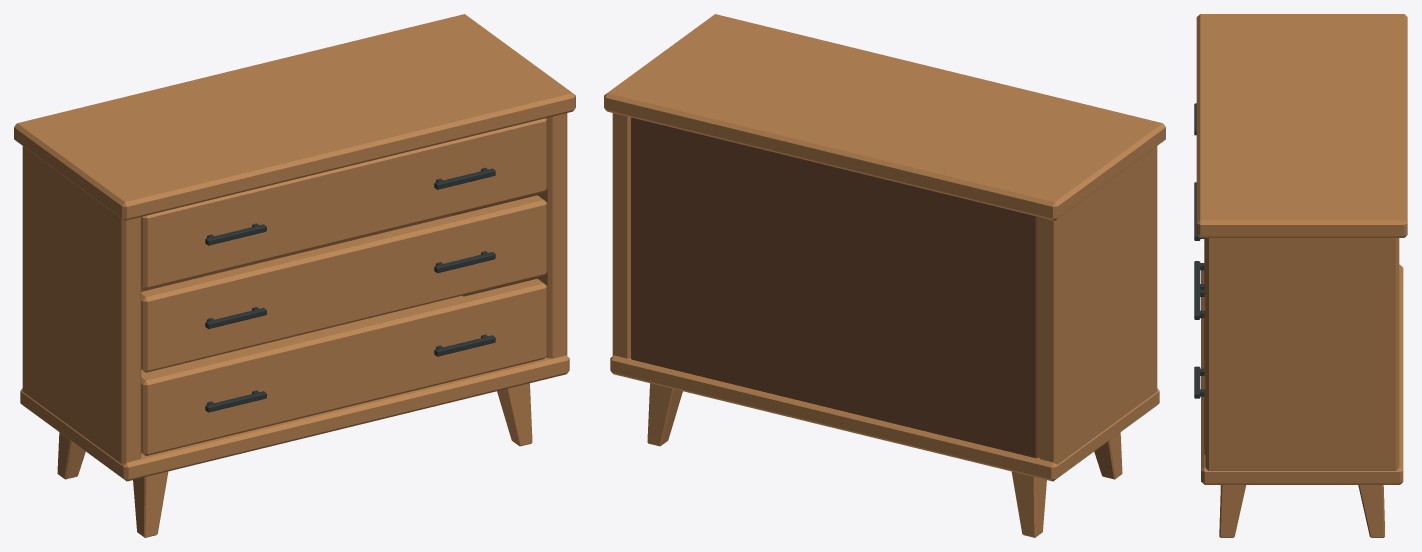
File: 08_dresser.glb
3 renders of one model, left to right at view 1: azimuth 30°, elevation 25°; view 2: azimuth 150°, elevation 25°; view 3: azimuth 270°, elevation 25°, orthographic. The views are drawn at different scales.
Visible parts, largest first — view 1: Crown_top, Inset_drawer_01, Inset_drawer_00, Side_panel.002, Inset_drawer_02, Bottom_panel.001, Side_panel.003, Tapered_leg_00.006, Tapered_leg_01.006, Tapered_leg_02.006, Back_panel; view 2: Back_panel, Crown_top, Side_panel.002, Bottom_panel.001, Side_panel.003, Tapered_leg_02.006, Tapered_leg_03.006, Tapered_leg_00.006; view 3: Crown_top, Side_panel.003, Bottom_panel.001, Tapered_leg_01.006, Tapered_leg_03.006.
Part boxes in pixels (left/top/right/bottom): Crown_top: left=14, top=14, right=575, bottom=220; Inset_drawer_01: left=141, top=195, right=547, bottom=372; Inset_drawer_00: left=141, top=278, right=547, bottom=455; Side_panel.002: left=22, top=146, right=141, bottom=464; Inset_drawer_02: left=141, top=118, right=547, bottom=289; Bottom_panel.001: left=20, top=295, right=569, bottom=481; Side_panel.003: left=453, top=113, right=567, bottom=358; Tapered_leg_00.006: left=133, top=471, right=168, bottom=537; Tapered_leg_01.006: left=497, top=383, right=532, bottom=446; Tapered_leg_02.006: left=57, top=432, right=85, bottom=479; Back_panel: left=141, top=214, right=452, bottom=291; Back_panel: left=631, top=117, right=1038, bottom=458; Crown_top: left=604, top=14, right=1165, bottom=220; Side_panel.002: left=1038, top=146, right=1157, bottom=464; Bottom_panel.001: left=610, top=355, right=1159, bottom=481; Side_panel.003: left=612, top=113, right=630, bottom=358; Tapered_leg_02.006: left=1011, top=471, right=1046, bottom=537; Tapered_leg_03.006: left=647, top=383, right=682, bottom=446; Tapered_leg_00.006: left=1094, top=432, right=1122, bottom=479; Crown_top: left=1196, top=14, right=1407, bottom=237; Side_panel.003: left=1205, top=238, right=1399, bottom=470; Bottom_panel.001: left=1201, top=264, right=1403, bottom=484; Tapered_leg_01.006: left=1219, top=485, right=1246, bottom=537; Tapered_leg_03.006: left=1358, top=485, right=1384, bottom=537.
Bounding box in the file's own units: 1.15 × 0.85 × 0.496.
